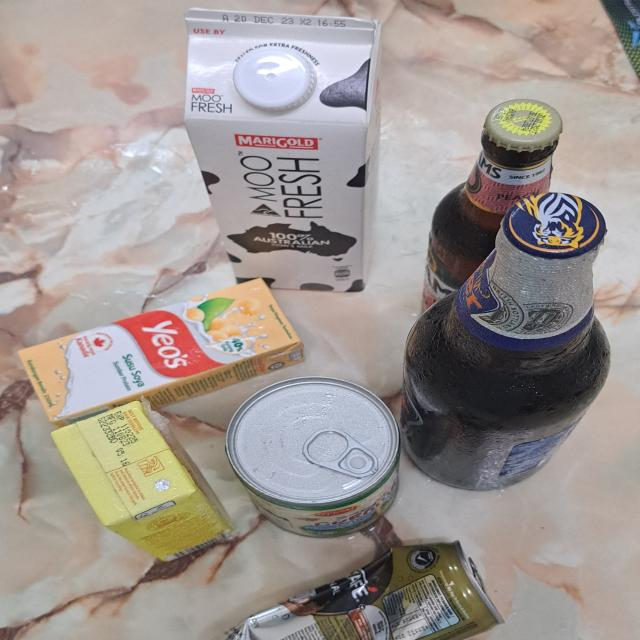can: (227, 537, 501, 640), (226, 376, 401, 537)
drink carton: (183, 6, 380, 290), (18, 277, 302, 424), (54, 399, 231, 564)
glass bottle: (401, 192, 612, 490), (424, 99, 560, 303)
plastic bottle cap: (234, 46, 322, 114)
pop tab: (303, 430, 379, 479)
